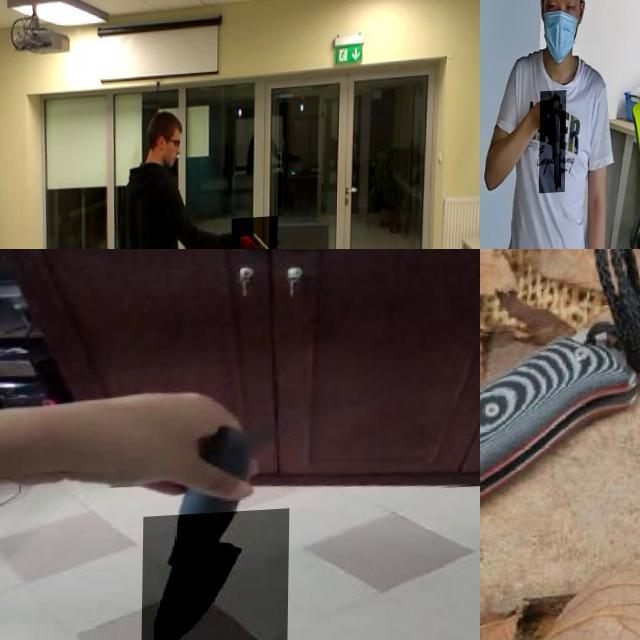-: (480, 463, 640, 640), (142, 512, 290, 640)
gun-knife-thesis - v11 Yolov5 augmented: (540, 94, 568, 198), (232, 220, 278, 249)
